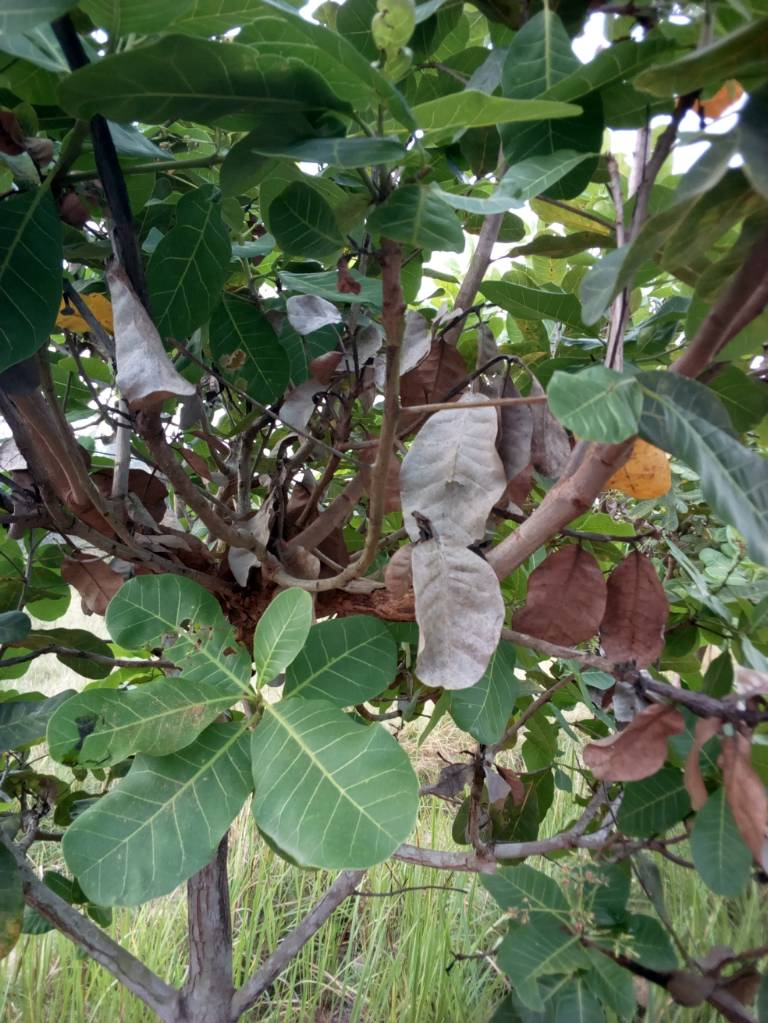Dessèchement des bourgeons: (402, 300, 493, 408)
